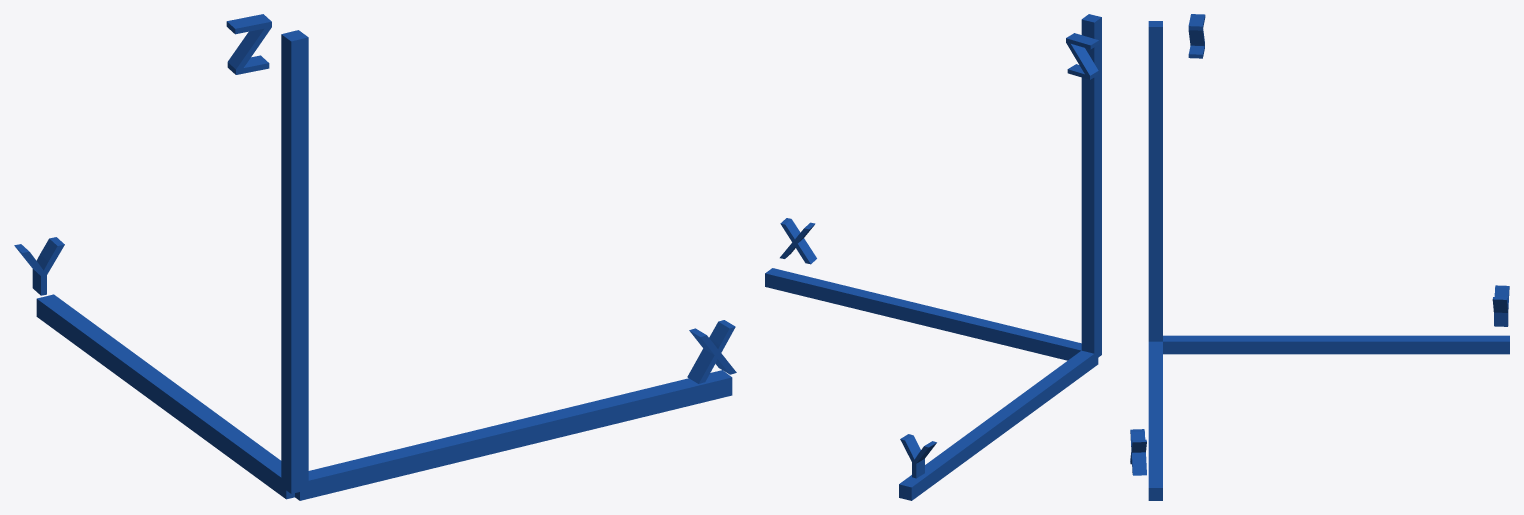
Rendered from zup.dae.
3 views of the same model, side by side, from view 1: azimuth 30°, elevation 25°; view 2: azimuth 150°, elevation 25°; view 3: azimuth 270°, elevation 25° (orthographic). The views are drawn at different scales.
Parts seen in each view (by area): view 1: Box02; view 2: Box02; view 3: Box02.
Part boxes in pixels (box(x1,y1,x2,y2)): Box02: box(14, 14, 736, 500); Box02: box(765, 14, 1101, 500); Box02: box(1130, 14, 1509, 500).
Size of the model in its own units: 27.02 by 26.82 by 25.5.
